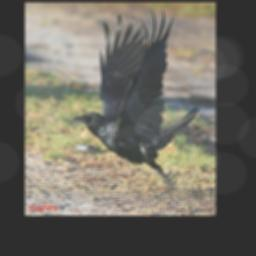Crow: (71, 7, 200, 194)
